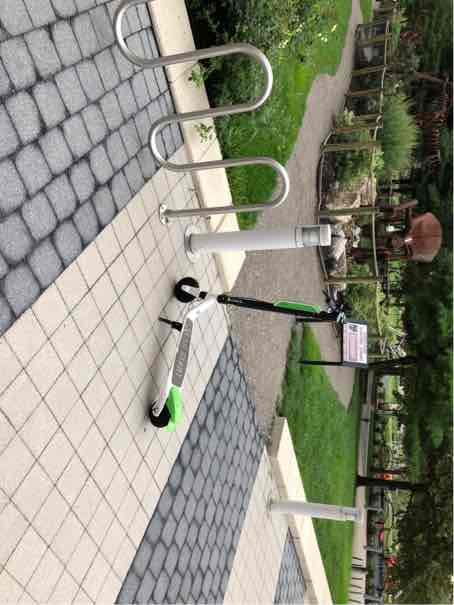scooter: (129, 260, 400, 431)
